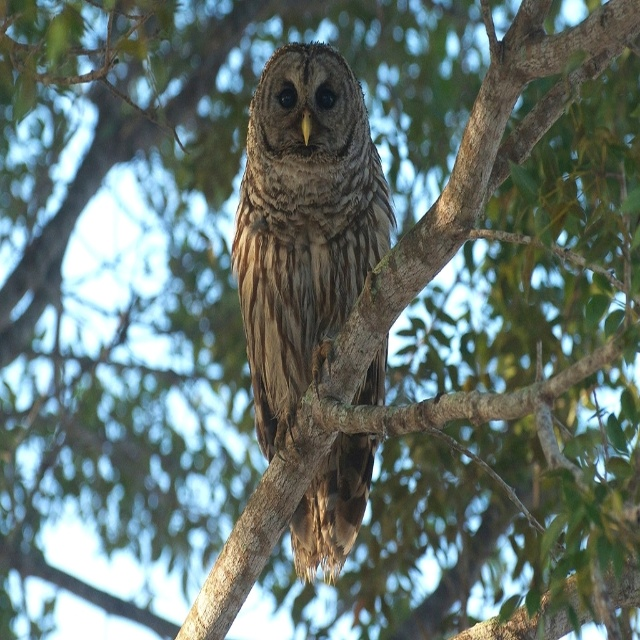Owl: (230, 39, 398, 587)
